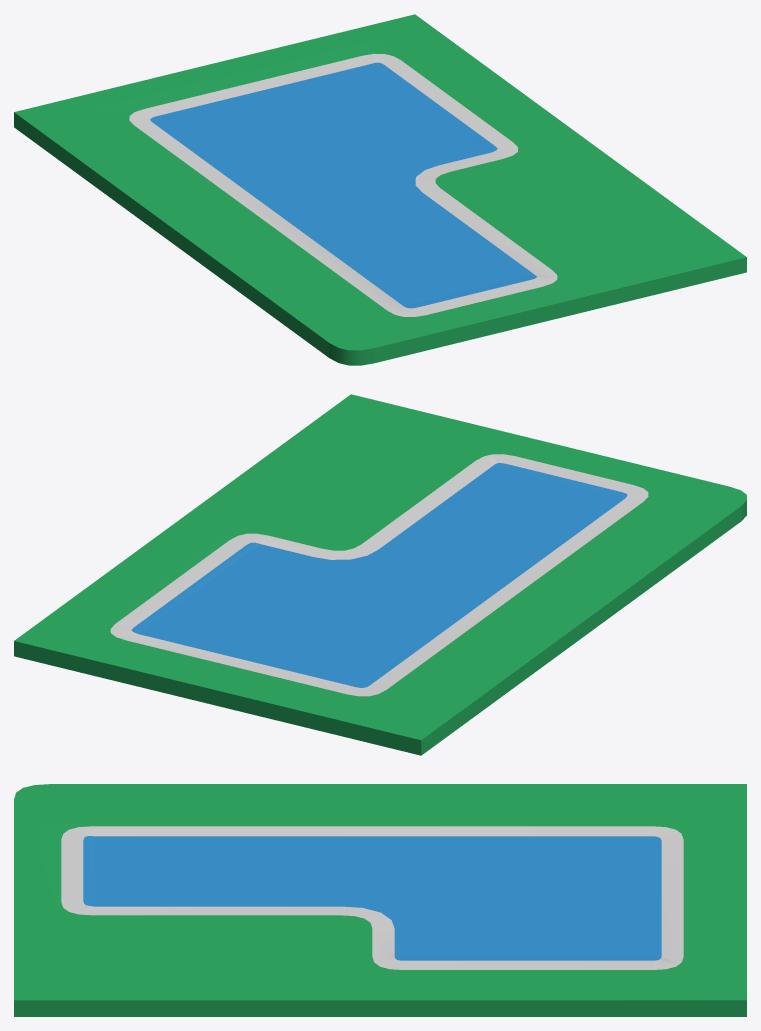
The model's file is water01_s03.FBX.
The picture shows the model from 3 angles, top to bottom: view 1: azimuth 30°, elevation 25°; view 2: azimuth 150°, elevation 25°; view 3: azimuth 270°, elevation 25°; orthographic projection. The views are drawn at different scales.
Parts seen in each view (by area): view 1: water01_s03; view 2: water01_s03; view 3: water01_s03.
Boxes of the visible parts, box(x1,y1,x2,y2) form: water01_s03: box(14, 14, 746, 365); water01_s03: box(14, 394, 746, 755); water01_s03: box(14, 784, 746, 1016).
Size of the model in its own units: 708 by 1014 by 25.61.
1 material, 1 textured.
